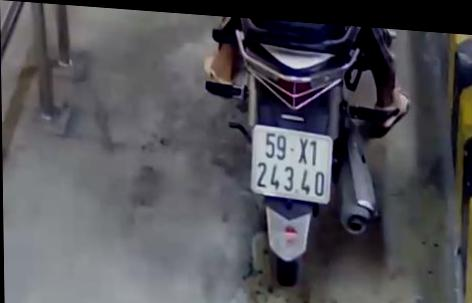License_Plate: (243, 119, 339, 213)
